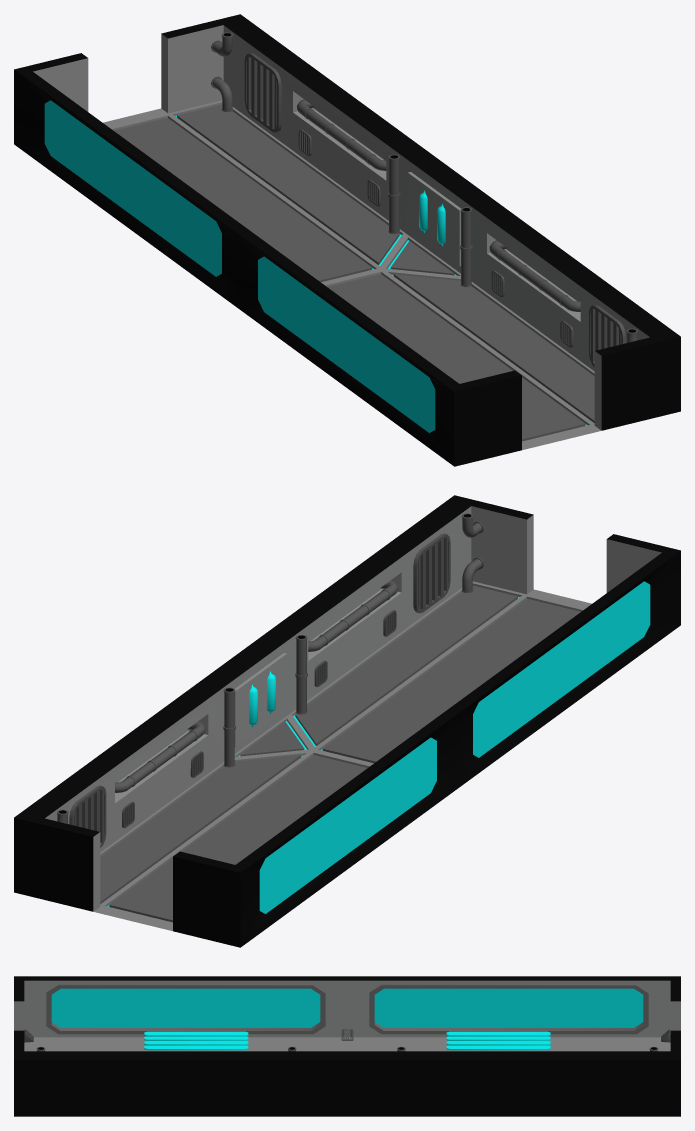
The model's file is HallwayStraightFixed.fbx.
The picture shows the model from 3 angles, top to bottom: view 1: azimuth 30°, elevation 25°; view 2: azimuth 150°, elevation 25°; view 3: azimuth 270°, elevation 25°; orthographic projection. The views are drawn at different scales.
Parts seen in each view (by area): view 1: HallwayStraight, HallwayStraightGlass; view 2: HallwayStraight, HallwayStraightGlass; view 3: HallwayStraight, HallwayStraightGlass, HallwayStraightStairs.
Boxes of the visible parts, x1=… form: HallwayStraight: x1=14, y1=14, x2=680, y2=466; HallwayStraightGlass: x1=44, y1=100, x2=445, y2=432; HallwayStraight: x1=14, y1=495, x2=680, y2=947; HallwayStraightGlass: x1=249, y1=581, x2=650, y2=913; HallwayStraight: x1=14, y1=976, x2=680, y2=1116; HallwayStraightGlass: x1=51, y1=988, x2=643, y2=1027; HallwayStraightStairs: x1=144, y1=1031, x2=550, y2=1050.
Size of the model in its own units: 950 by 310 by 3200.
